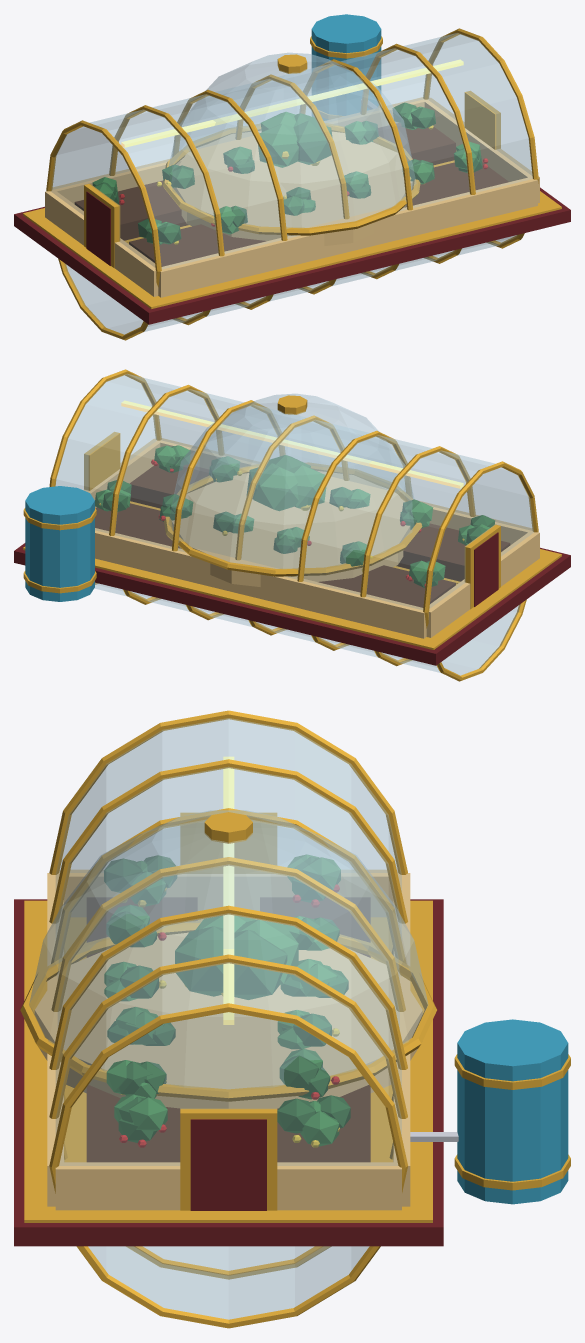
File: estufa-n3.glb
The picture shows the model from 3 angles, top to bottom: view 1: azimuth 30°, elevation 25°; view 2: azimuth 150°, elevation 25°; view 3: azimuth 270°, elevation 25°; orthographic projection. The views are drawn at different scales.
Visible parts, largest first — view 1: estufa-n3; view 2: estufa-n3; view 3: estufa-n3.
Part boxes in pixels (x1,y1,x2,y2): estufa-n3: [14, 14, 570, 340]; estufa-n3: [14, 369, 570, 681]; estufa-n3: [14, 710, 570, 1328].
Size of the model in its own units: 16.8 by 8.6 by 12.06.
